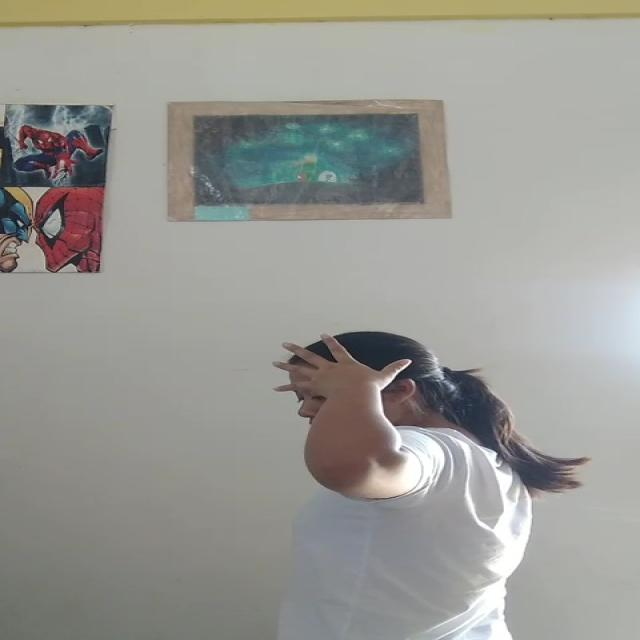7_mano_rostro: (269, 334, 398, 463)
